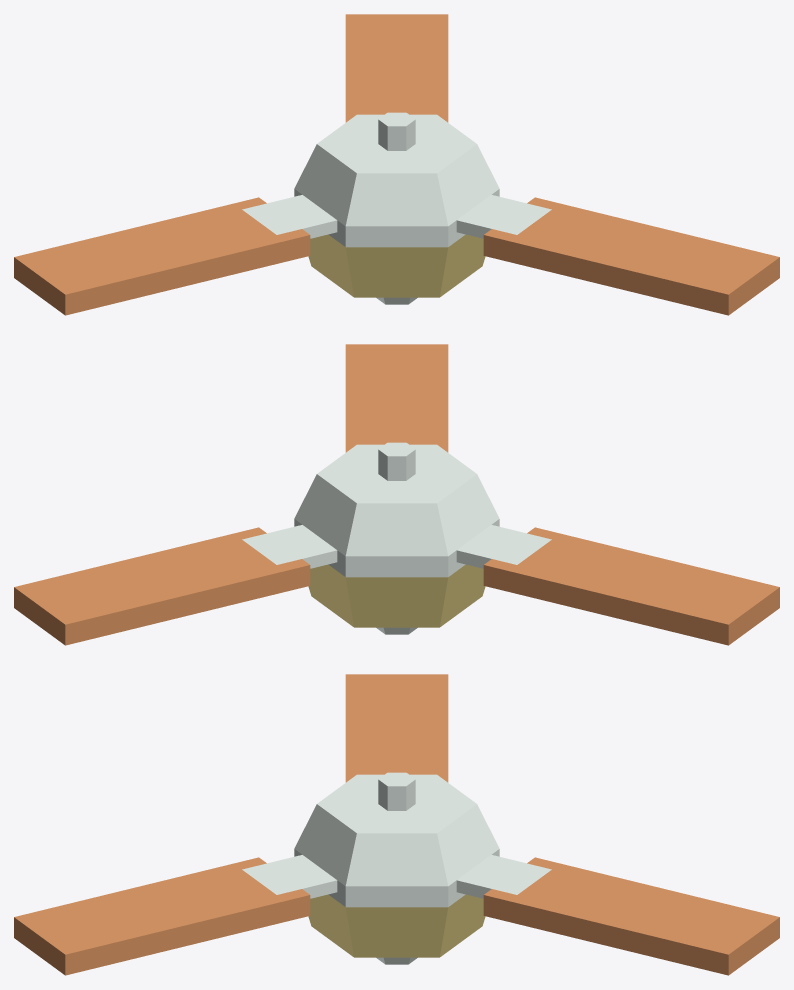
File: ceiling_light_09.glb
3 views of the same model, one above another, from view 1: azimuth 30°, elevation 25°; view 2: azimuth 150°, elevation 25°; view 3: azimuth 270°, elevation 25° (orthographic).
Parts seen in each view (by area): view 1: spin, ceilingFan; view 2: spin, ceilingFan; view 3: spin, ceilingFan.
Boxes of the visible parts, x1=… form: spin: x1=14, y1=14, x2=779, y2=315; ceilingFan: x1=242, y1=112, x2=551, y2=304; spin: x1=14, y1=344, x2=779, y2=645; ceilingFan: x1=242, y1=442, x2=551, y2=634; spin: x1=14, y1=674, x2=779, y2=975; ceilingFan: x1=242, y1=772, x2=551, y2=964.
Bounding box in the file's own units: 0.4547 × 0.1337 × 0.5251.
